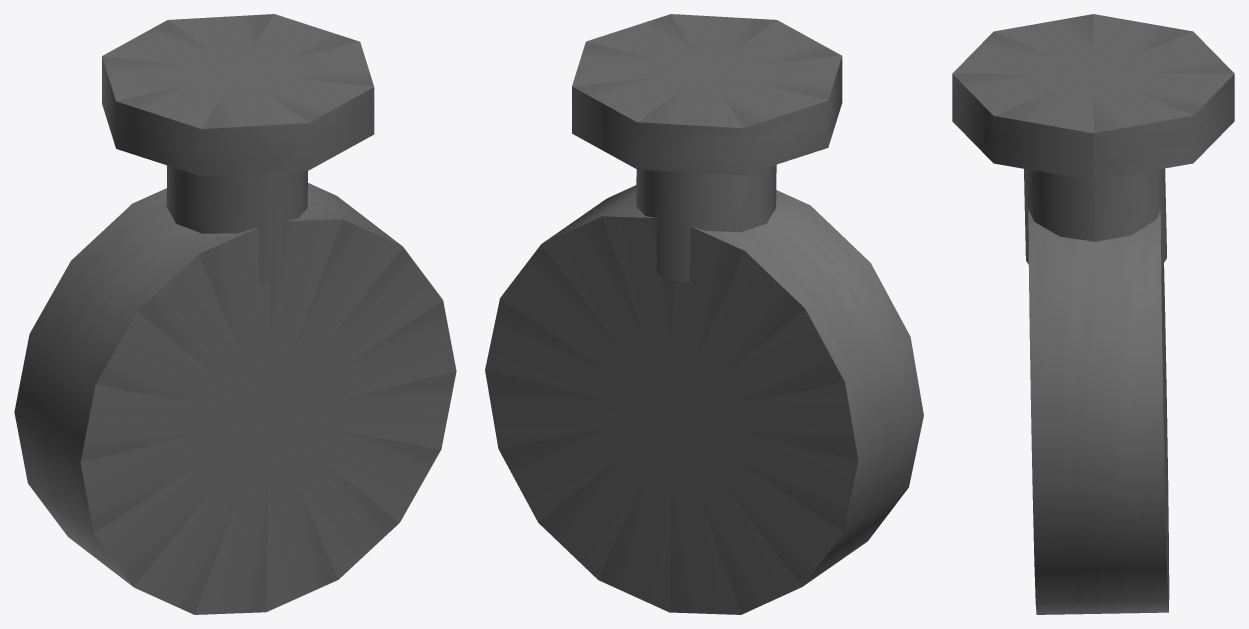
Rendered from mastarmcurve_10x2_c11_up.obj.
3 renders of one model, left to right at view 1: azimuth 30°, elevation 25°; view 2: azimuth 150°, elevation 25°; view 3: azimuth 270°, elevation 25°, orthographic.
Visible parts, largest first — view 1: mastarm_10x2_c11_up; view 2: mastarm_10x2_c11_up; view 3: mastarm_10x2_c11_up.
Part boxes in pixels (box(x1,y1,x2,y2)): mastarm_10x2_c11_up: box(14, 14, 456, 614); mastarm_10x2_c11_up: box(485, 14, 923, 614); mastarm_10x2_c11_up: box(952, 14, 1234, 614).
Bounding box in the file's own units: 0.6162 × 0.8141 × 0.4.
